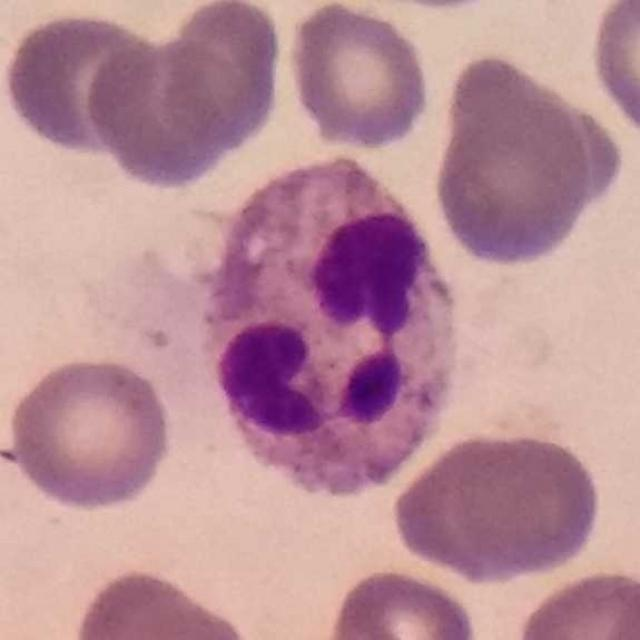Neutrophil: (189, 142, 476, 520)
RBC: (426, 50, 618, 272), (399, 426, 606, 582), (83, 28, 254, 194), (3, 352, 177, 514), (0, 6, 164, 159), (284, 0, 435, 154), (154, 0, 288, 159), (69, 564, 259, 640), (324, 564, 483, 640), (511, 565, 640, 640), (585, 0, 639, 151)
